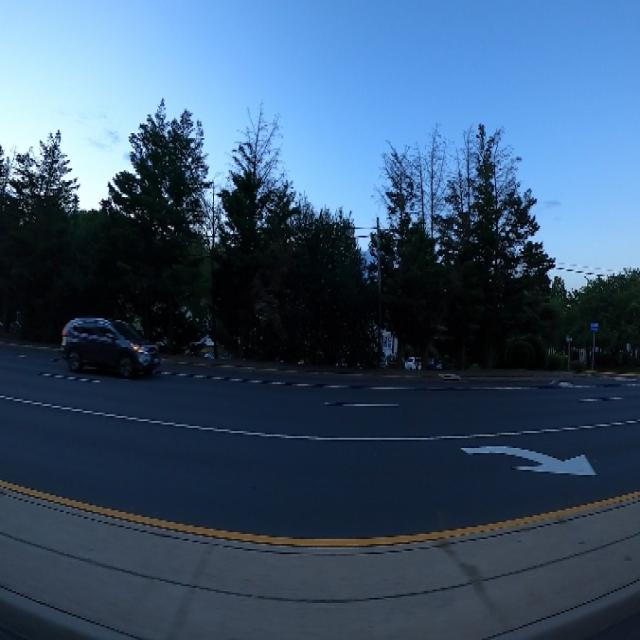cars: (62, 310, 163, 386), (401, 349, 427, 377)
